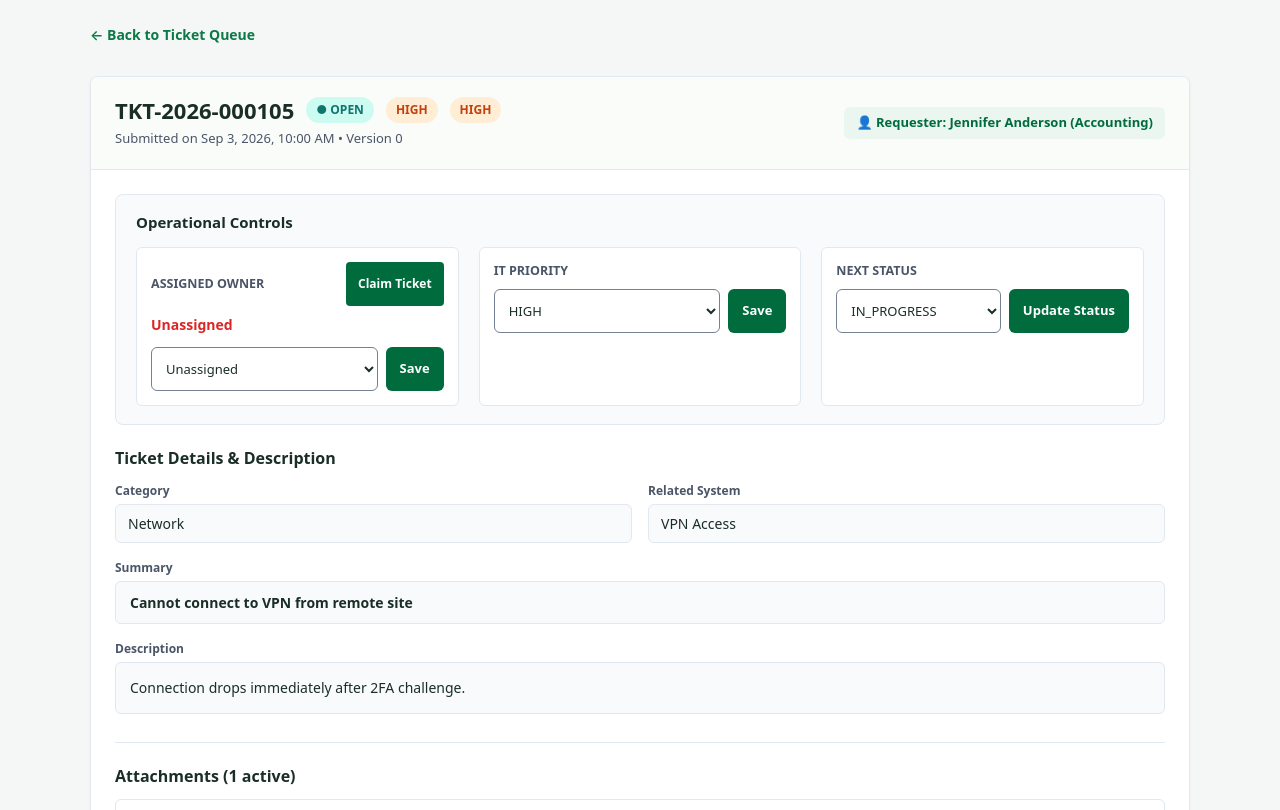
Test: UI-05, UI-06, UI-09: Staff Ticket Detail Operations Component › validates owner requirement when transitioning to IN_PROGRESS without an owner
Select "IN_PROGRESS" in the dropdown with test id "select-status" at (919, 311), box [836,289,1001,333]
Click the button with test id "btn-save-status".
click(1069, 311)  # box [1009,289,1129,333]
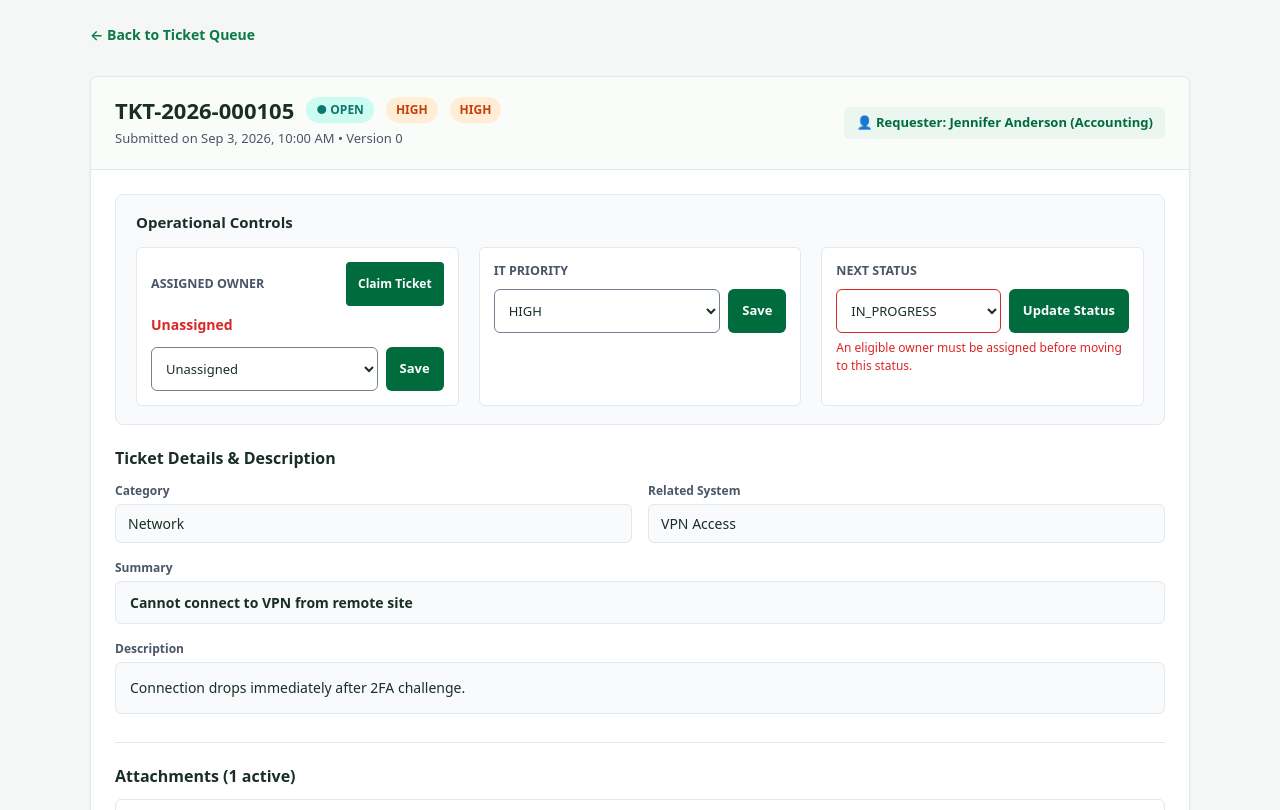
Now the text with test id "status-owner-required-error" is shown, box [836,339,1129,375]
